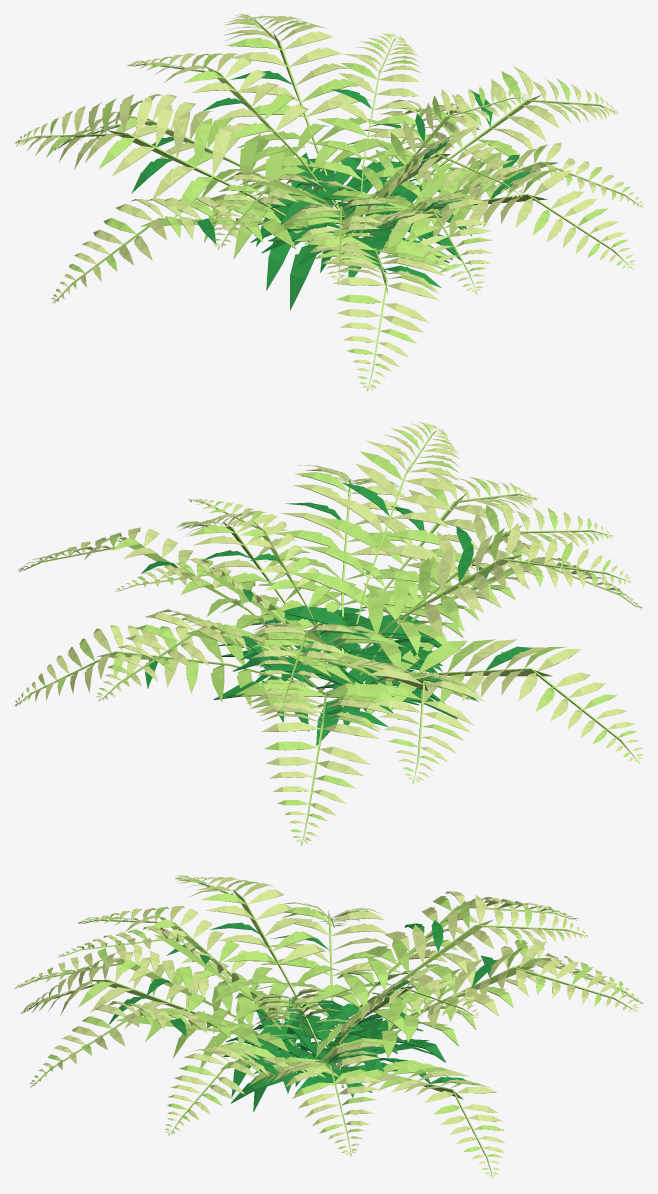
The model's file is fernCala_LOD.fbx.
3 views of the same model, one above another, from view 1: azimuth 30°, elevation 25°; view 2: azimuth 150°, elevation 25°; view 3: azimuth 270°, elevation 25° (orthographic). The views are drawn at different scales.
Visible parts, largest first — view 1: fern1, fern0, fern4, fern3; view 2: fern1, fern0, fern4, fern3; view 3: fern1, fern0, fern4, fern3.
Part boxes in pixels (x1=…): fern1: x1=16, y1=15, x2=642, y2=390; fern0: x1=14, y1=14, x2=643, y2=392; fern4: x1=19, y1=15, x2=628, y2=374; fern3: x1=143, y1=64, x2=530, y2=276; fern1: x1=15, y1=424, x2=641, y2=844; fern0: x1=15, y1=421, x2=643, y2=846; fern4: x1=29, y1=425, x2=638, y2=834; fern3: x1=176, y1=499, x2=519, y2=716; fern1: x1=15, y1=876, x2=641, y2=1177; fern0: x1=15, y1=875, x2=643, y2=1179; fern4: x1=27, y1=875, x2=637, y2=1157; fern3: x1=120, y1=924, x2=517, y2=1078.
Size of the model in its own units: 502 by 159 by 487.
